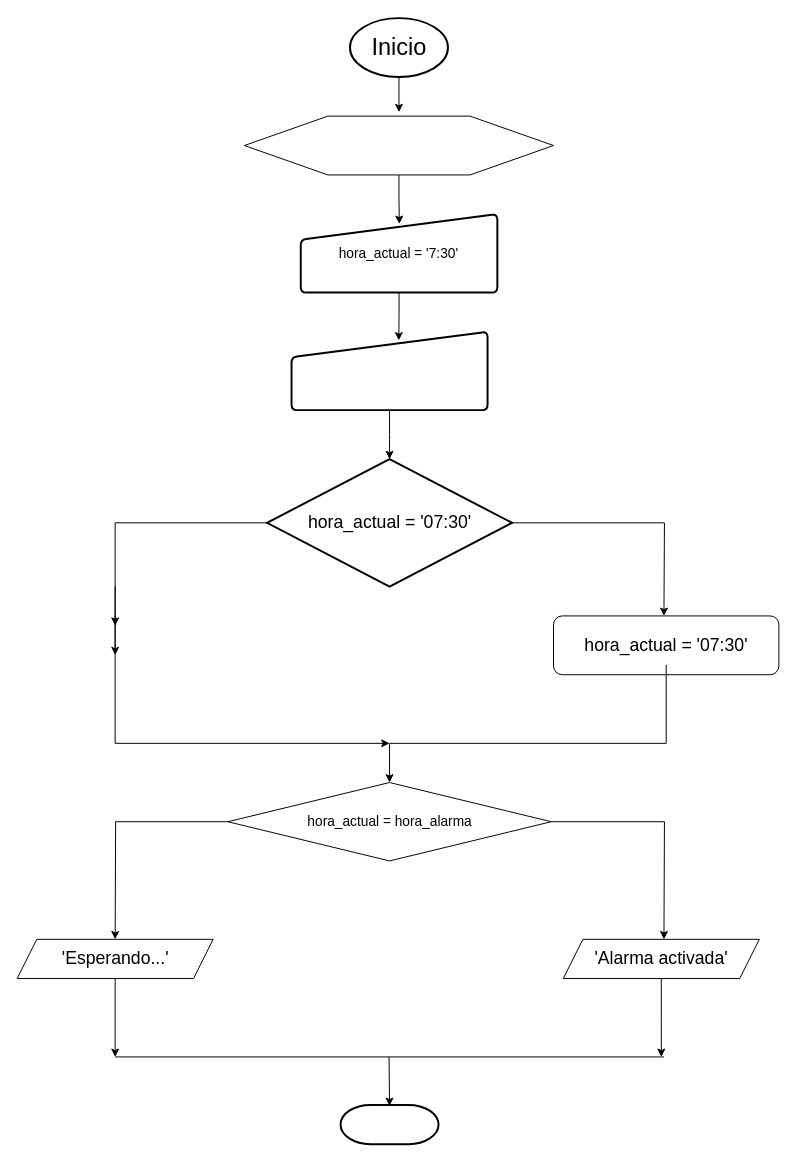
Some shapes in this 797 by 1161 pixel diagram are drawn without their labels. The shapes that lost their labels are listed below. From the top down, each one's centre as x and y in pixels, then its label:
(x=398, y=145): hora_actual = 0 hora_alarma = 0
(x=389, y=370): hora_alarma = '07:30'
(x=389, y=1124): Fin
